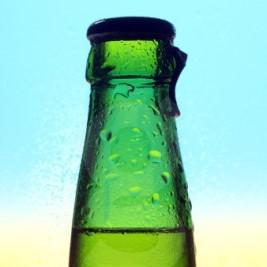beer: (67, 20, 203, 267)
